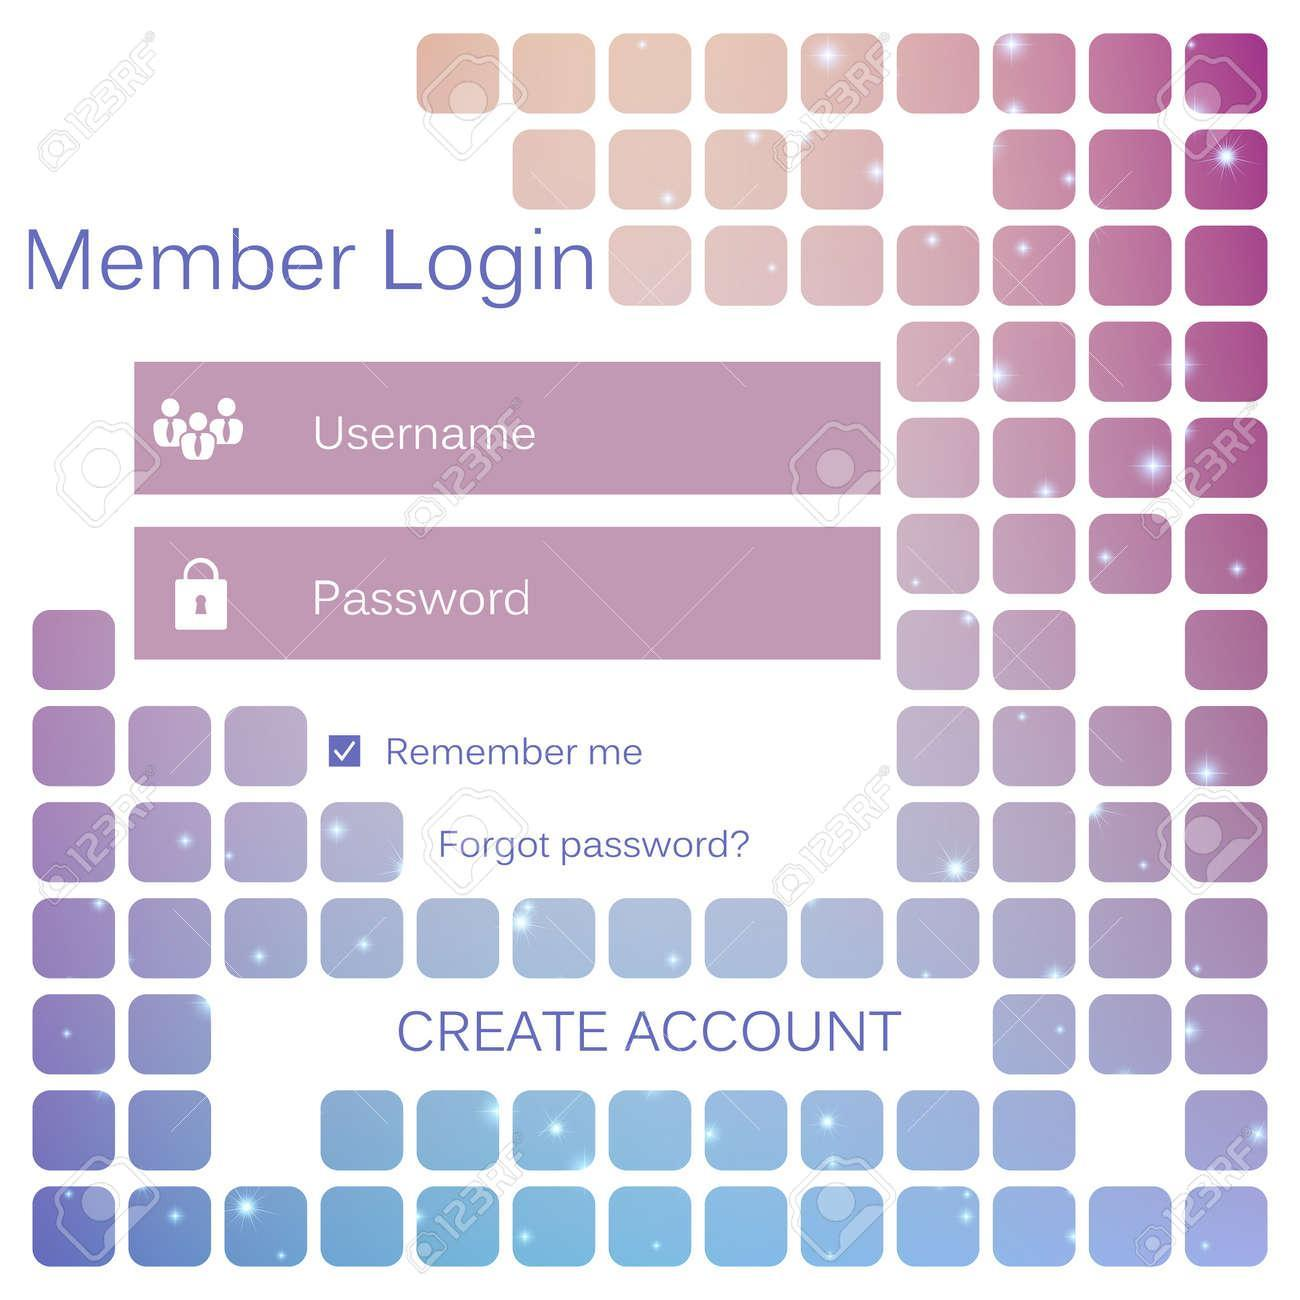checkbox: (327, 735, 365, 768)
icon: (146, 386, 260, 465), (154, 548, 246, 643)
input: (137, 362, 882, 493), (138, 529, 881, 660)
label: (15, 223, 601, 314), (389, 1004, 911, 1062), (385, 731, 654, 783)
